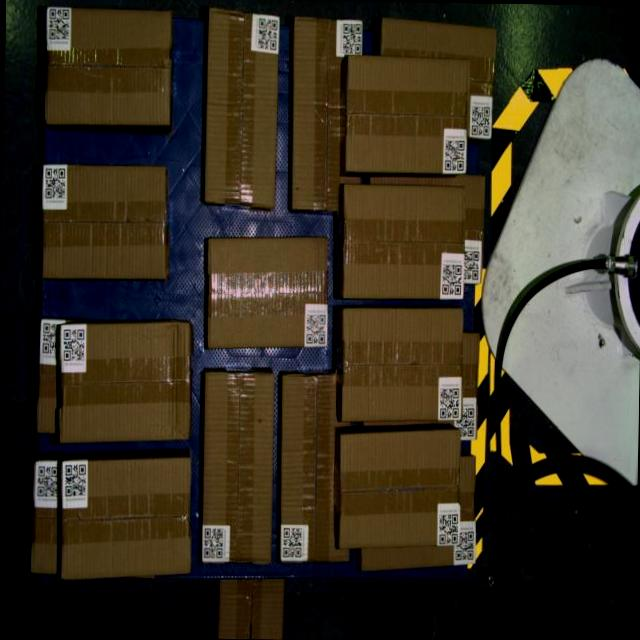box: (59, 455, 193, 582), (59, 320, 192, 445), (44, 6, 172, 126), (40, 163, 170, 280), (204, 7, 280, 207), (338, 427, 461, 550), (345, 54, 469, 174), (340, 306, 464, 423), (342, 184, 466, 300), (206, 235, 329, 350), (201, 372, 274, 564)
